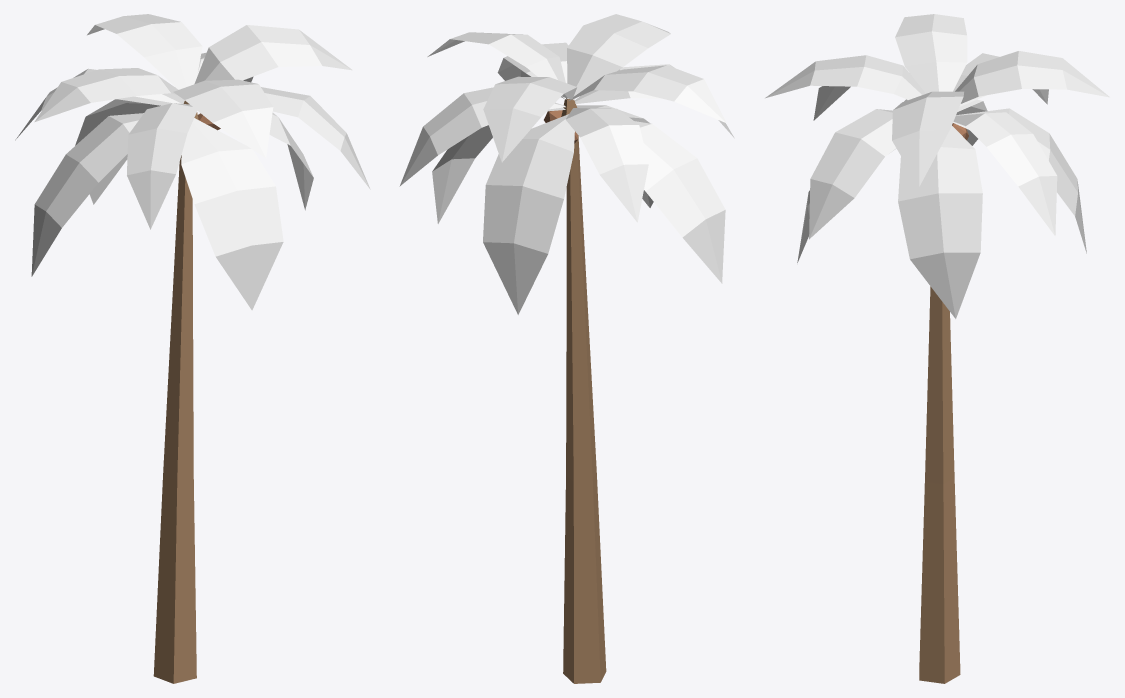
File: Palm_Tree_Coconut_OneSided_l_Snow_01.fbx
3 renders of one model, left to right at view 1: azimuth 30°, elevation 25°; view 2: azimuth 150°, elevation 25°; view 3: azimuth 270°, elevation 25°, orthographic.
Visible parts, largest first — view 1: Palm_Tree_Coconut_OneSided_l_Snow_01; view 2: Palm_Tree_Coconut_OneSided_l_Snow_01; view 3: Palm_Tree_Coconut_OneSided_l_Snow_01.
Part boxes in pixels (bbox=[...]): Palm_Tree_Coconut_OneSided_l_Snow_01: bbox=[15, 14, 370, 683]; Palm_Tree_Coconut_OneSided_l_Snow_01: bbox=[399, 14, 734, 683]; Palm_Tree_Coconut_OneSided_l_Snow_01: bbox=[765, 14, 1109, 683].
Size of the model in its own units: 430 by 823 by 417.
